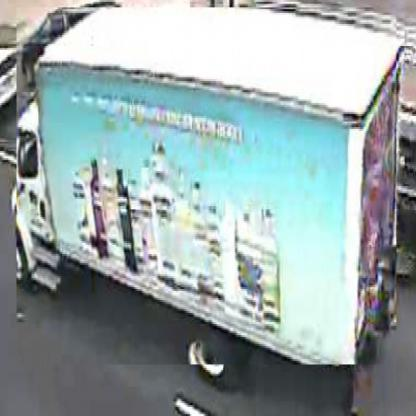truck: (18, 9, 399, 368)
